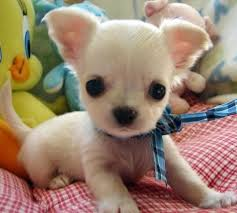chihuahua: (16, 3, 222, 212)
